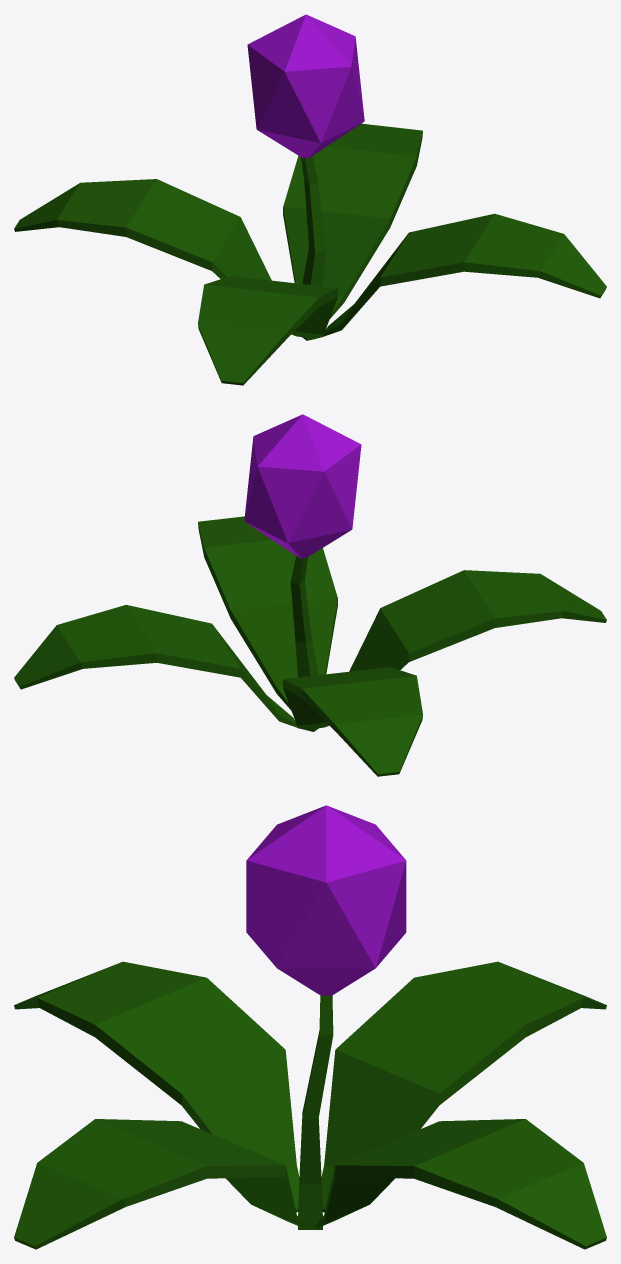
Rendered from Flower_02.FBX.
3 views of the same model, one above another, from view 1: azimuth 30°, elevation 25°; view 2: azimuth 150°, elevation 25°; view 3: azimuth 270°, elevation 25° (orthographic). The views are drawn at different scales.
Parts seen in each view (by area): view 1: Hojas, Flor, Tija; view 2: Hojas, Flor, Tija; view 3: Hojas, Flor, Tija.
Boxes of the visible parts, <box> form: Hojas: <box>14,123,606,385</box>; Flor: <box>247,14,364,158</box>; Tija: <box>301,156,325,340</box>; Hojas: <box>14,516,606,776</box>; Flor: <box>244,414,361,558</box>; Tija: <box>290,556,318,731</box>; Hojas: <box>14,961,606,1249</box>; Flor: <box>246,805,406,995</box>; Tija: <box>298,995,333,1229</box>.
Size of the model in its own units: 99.45 by 77.97 by 99.7.
